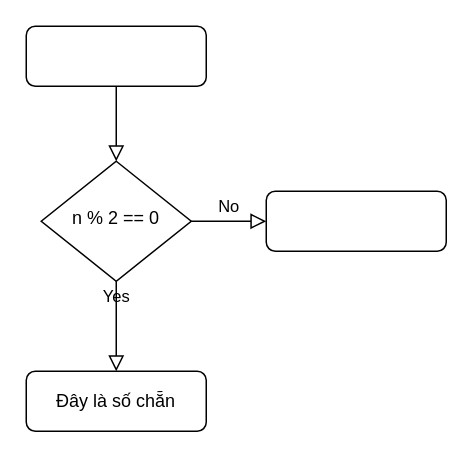
Some shapes in this 473 by 458 pixel diagram are drawn without their labels. The shapes that lost their labels are listed below. From the top down, each one's centre as x and y in pixels, then its label:
[115,55]: Nhập n
[355,220]: Đây là số lẻ
